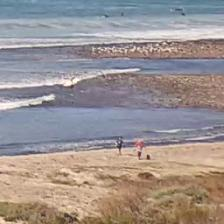surfer: (172, 8, 184, 12), (102, 14, 110, 19), (120, 12, 125, 17), (180, 13, 188, 16)
